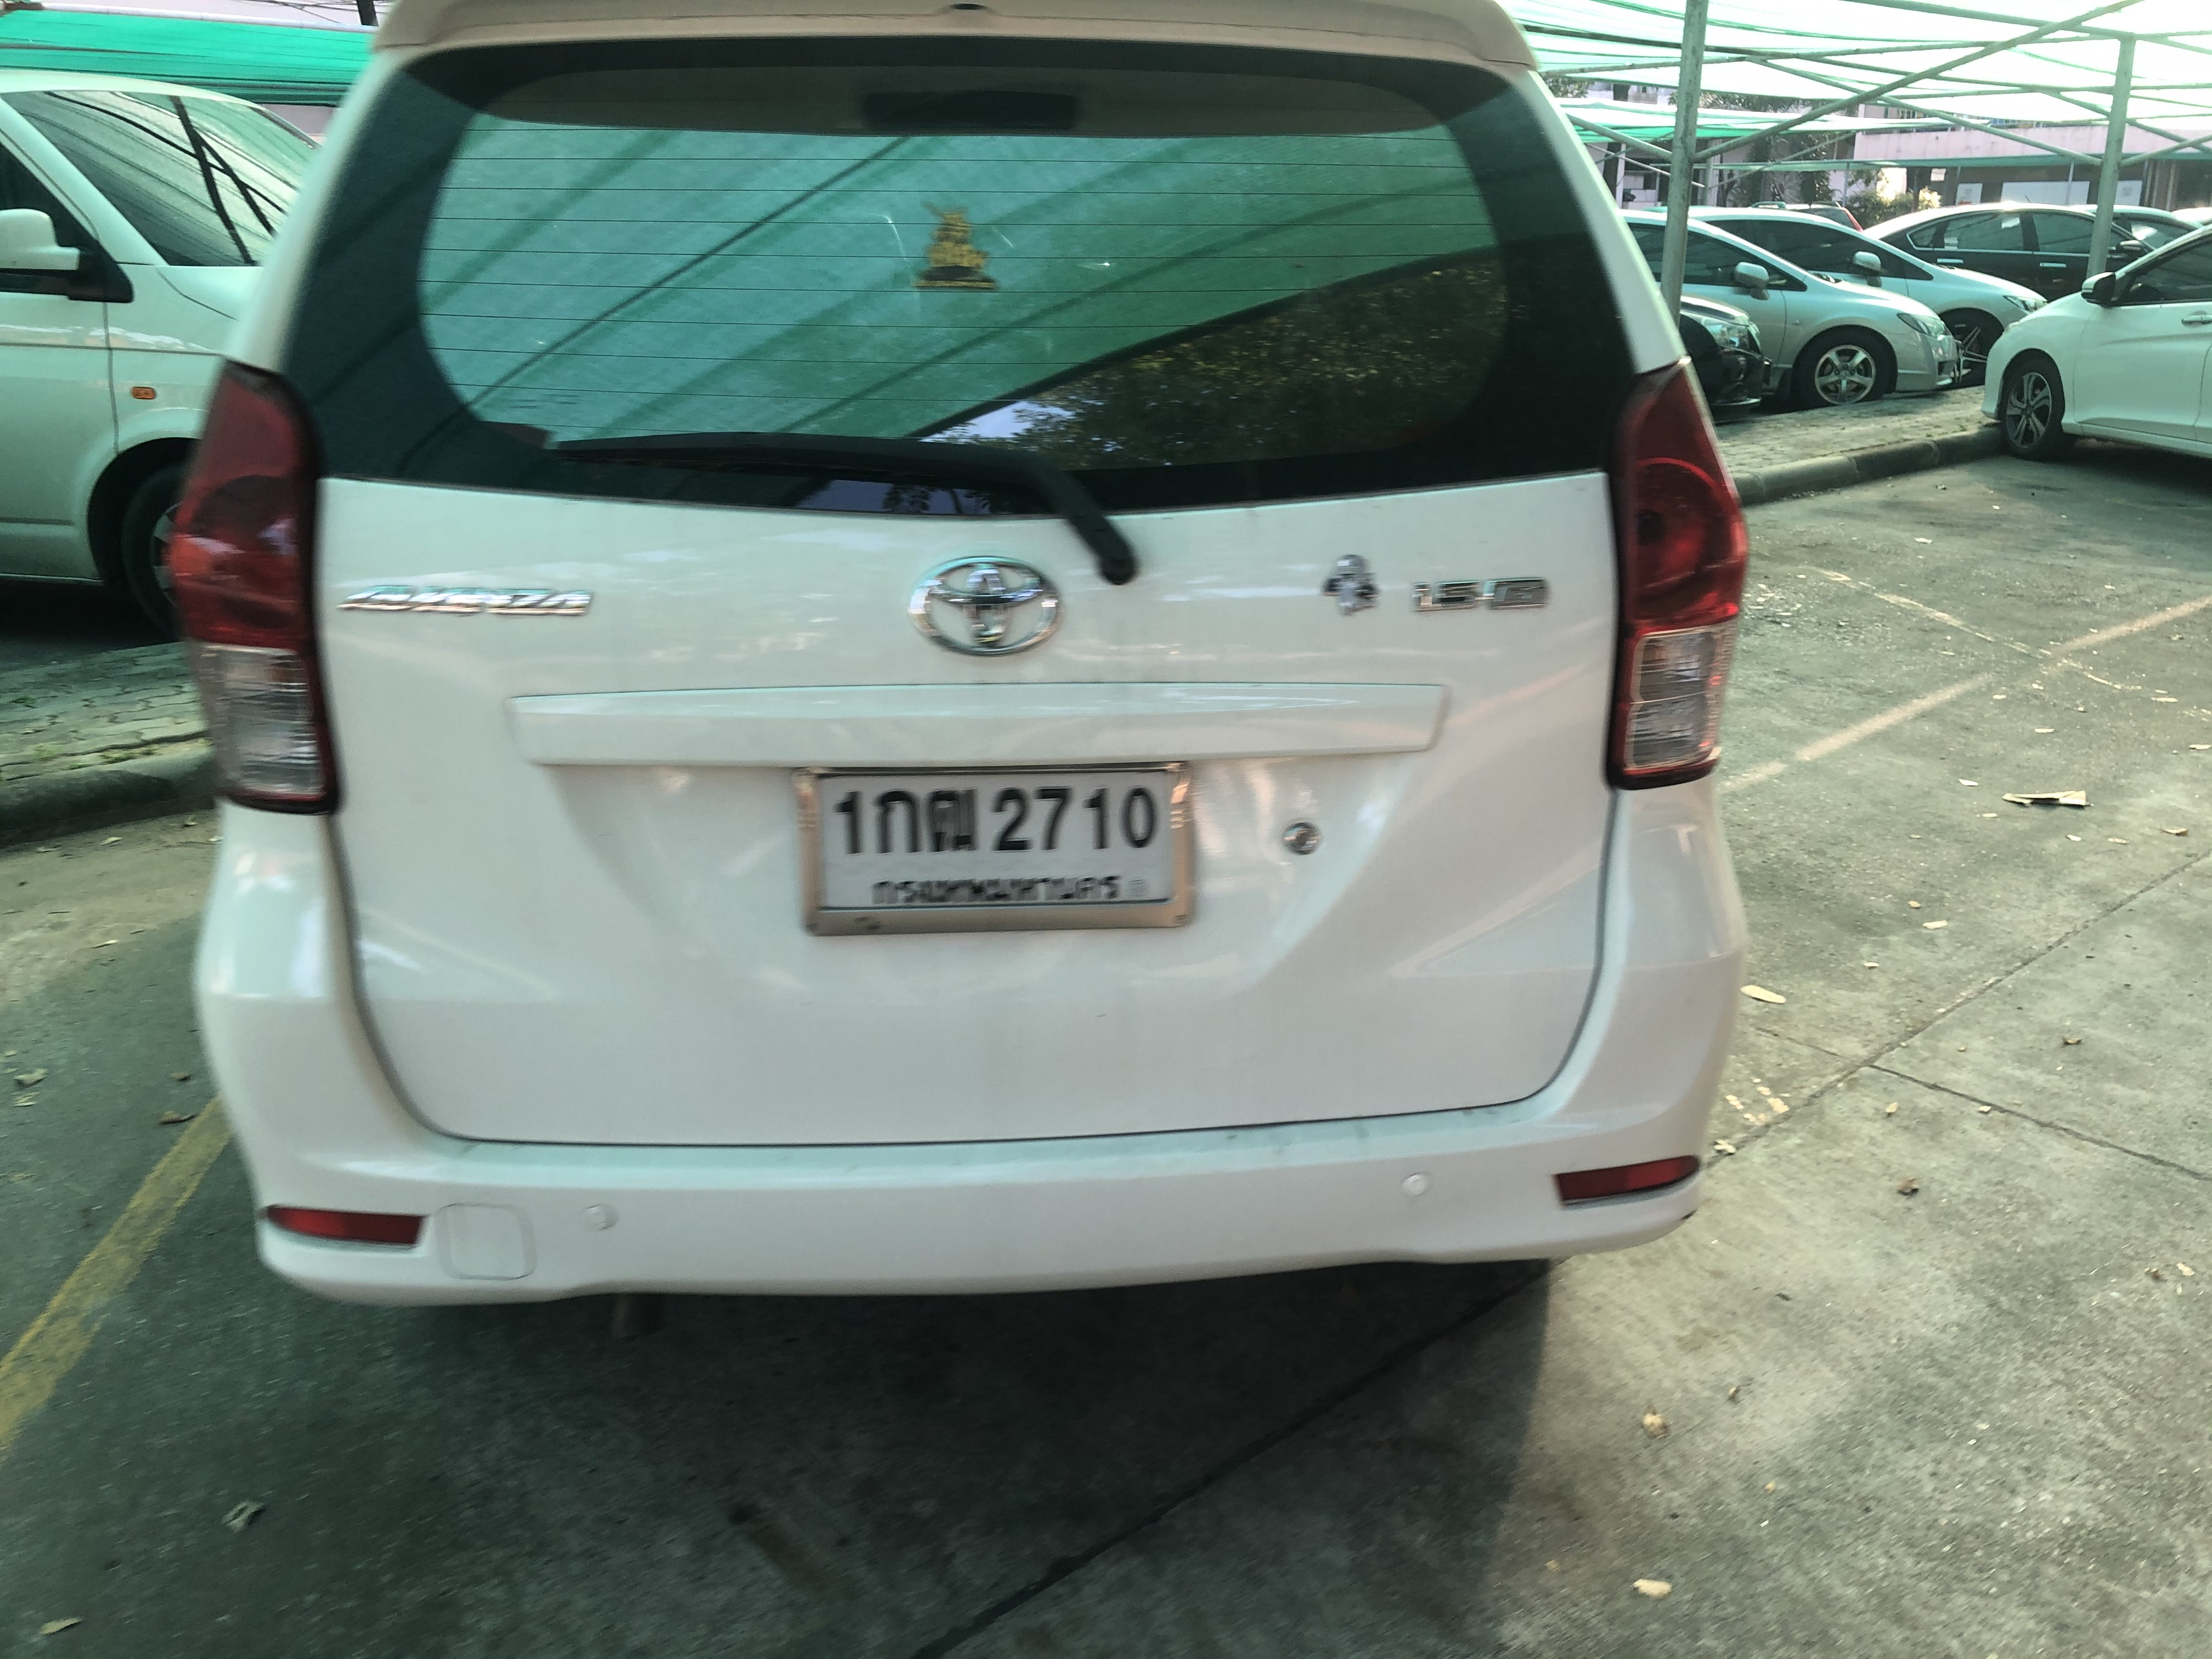in: (820, 775, 1176, 903)
out: (791, 762, 1198, 932)
